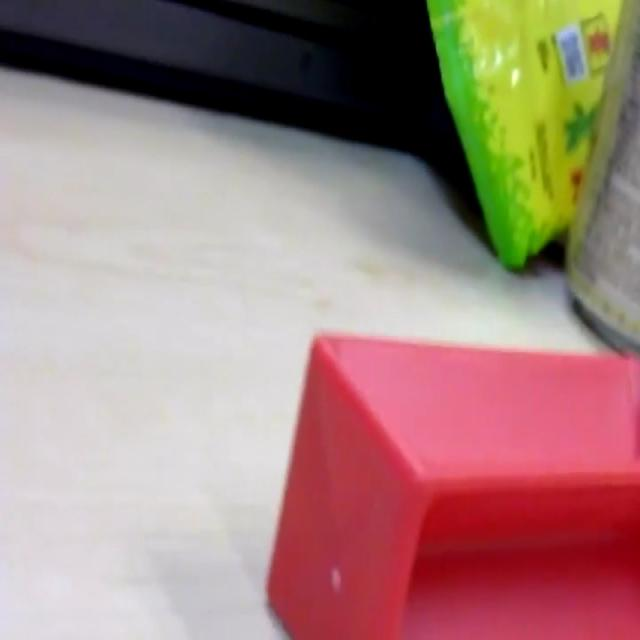red_block: (265, 327, 638, 636)
